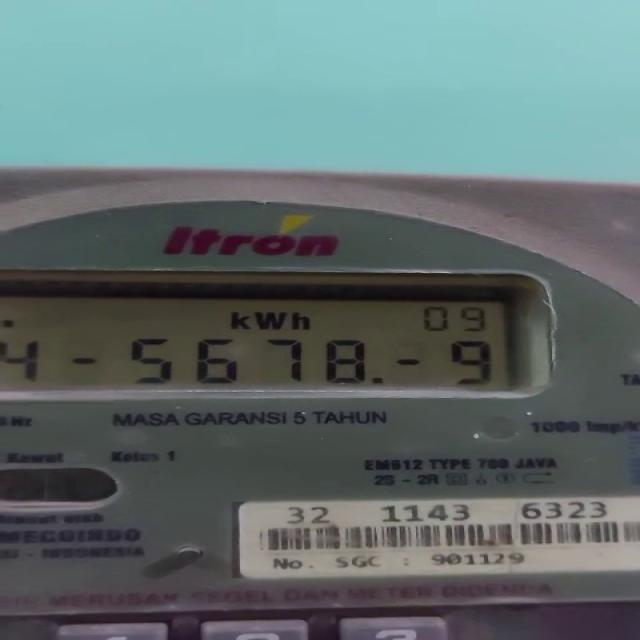LCD: (0, 257, 640, 412)
